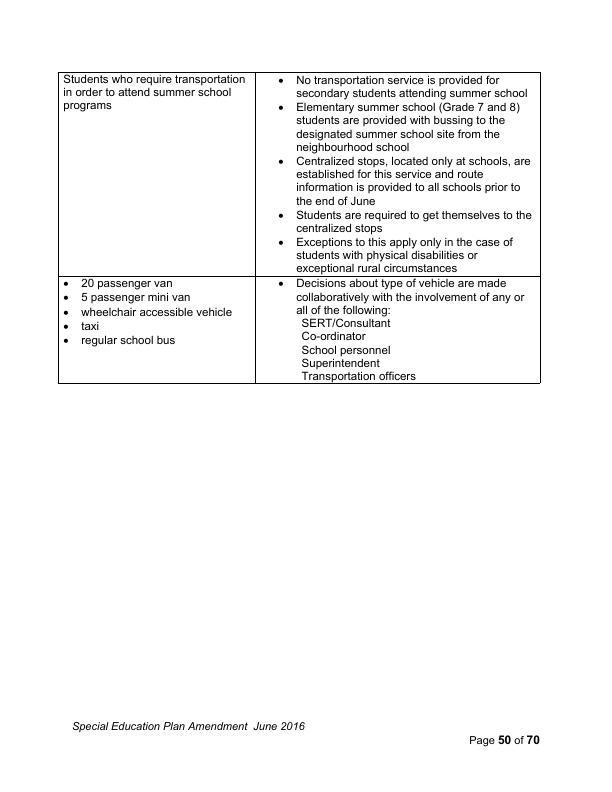table: (53, 69, 546, 389)
text: (68, 716, 309, 738), (465, 732, 549, 753)
